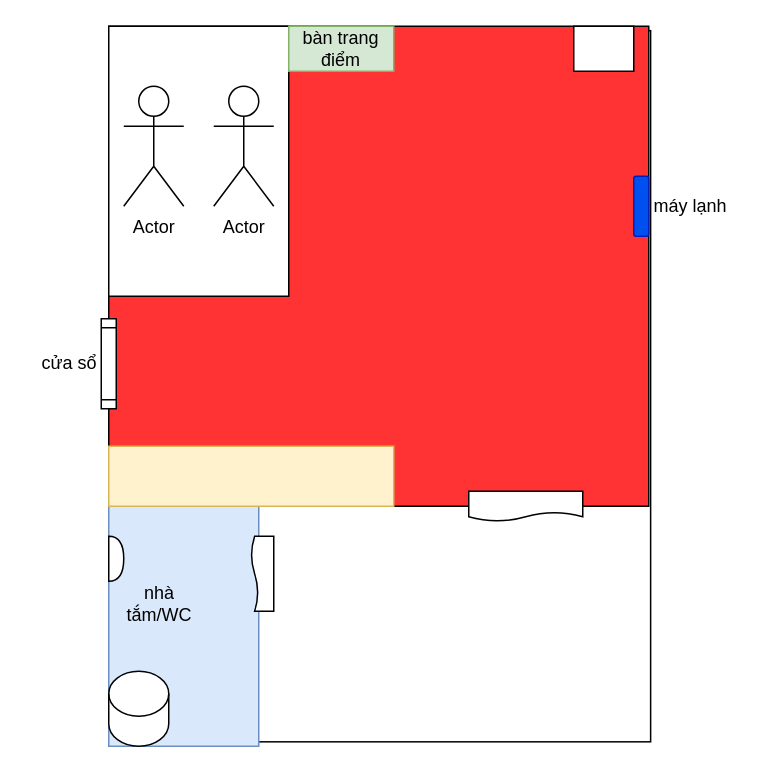
Image size: 764x773. Some labels were removed from this diagram. The centre of each missing label's shape, as x and y in pixels:
tủ lạnh: point 603,48
tủ quần áo: point 250,475
